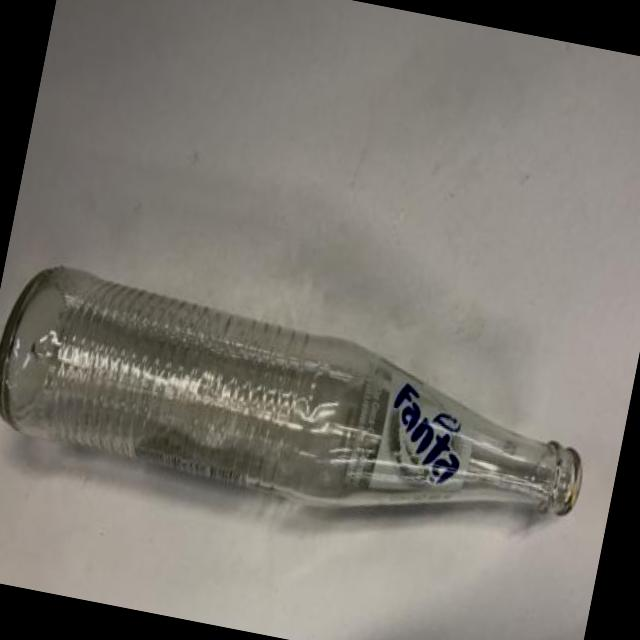chai_thuy_tinh: (0, 268, 583, 532)
